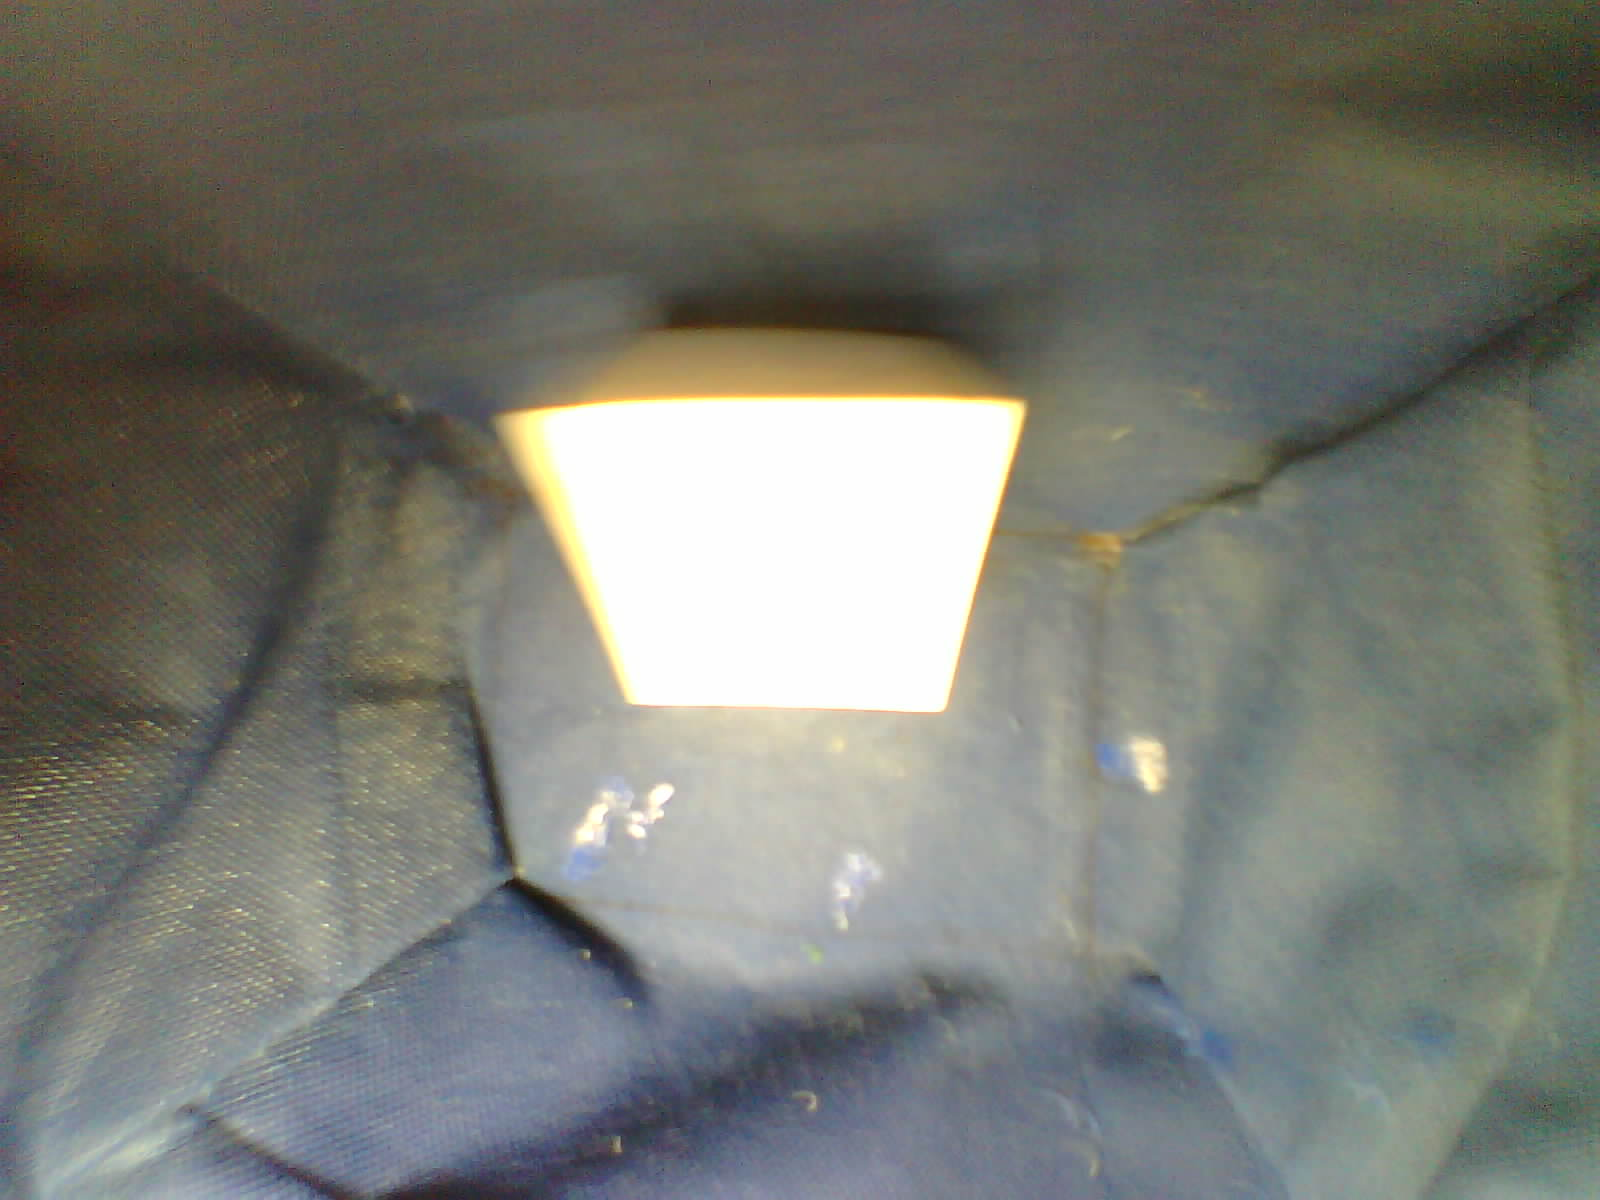cube-hard: (484, 300, 1024, 751)
